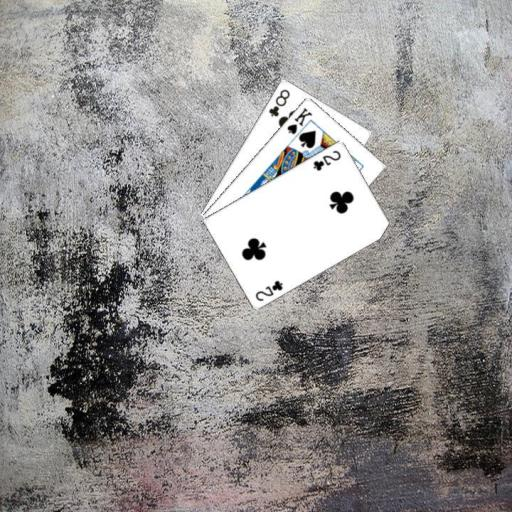2C: (310, 147, 343, 172), (253, 277, 285, 302)
8C: (265, 85, 292, 118)
KS: (284, 104, 314, 136)
